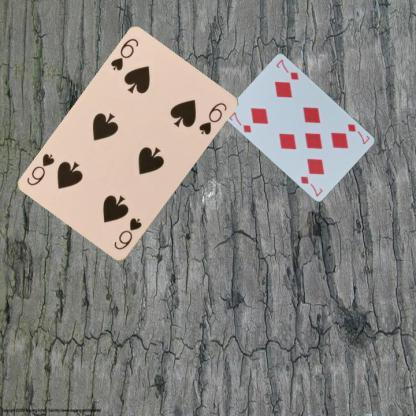6s: (111, 215, 143, 252), (108, 36, 140, 73)
7d: (226, 109, 254, 134), (344, 122, 372, 146)
